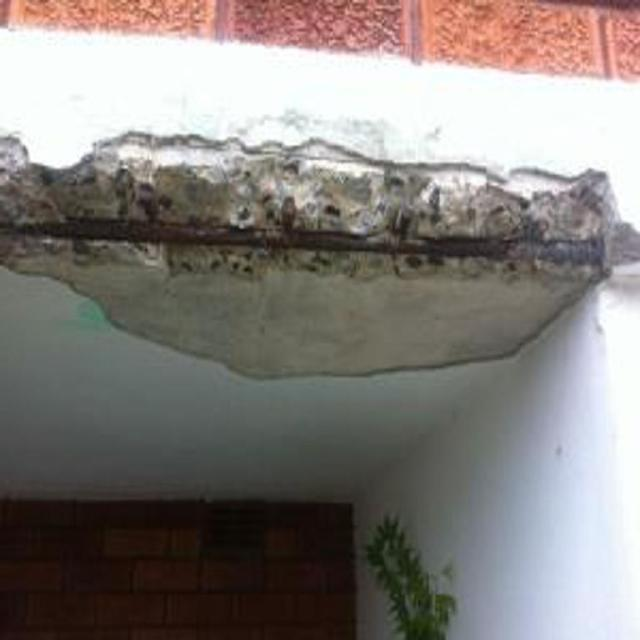spalling: (2, 127, 639, 380)
